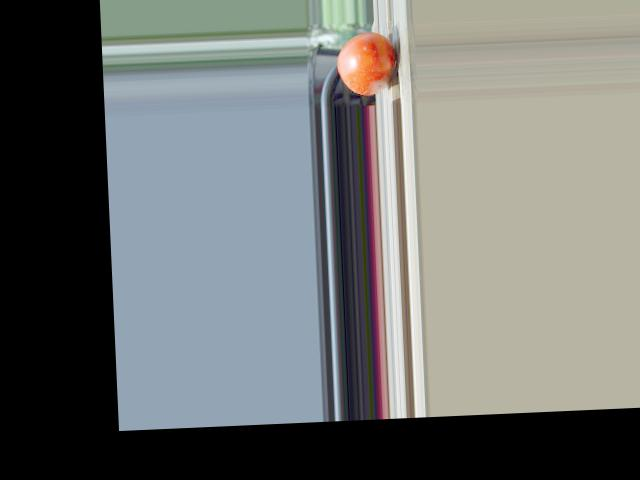tomato: (335, 30, 395, 96)
